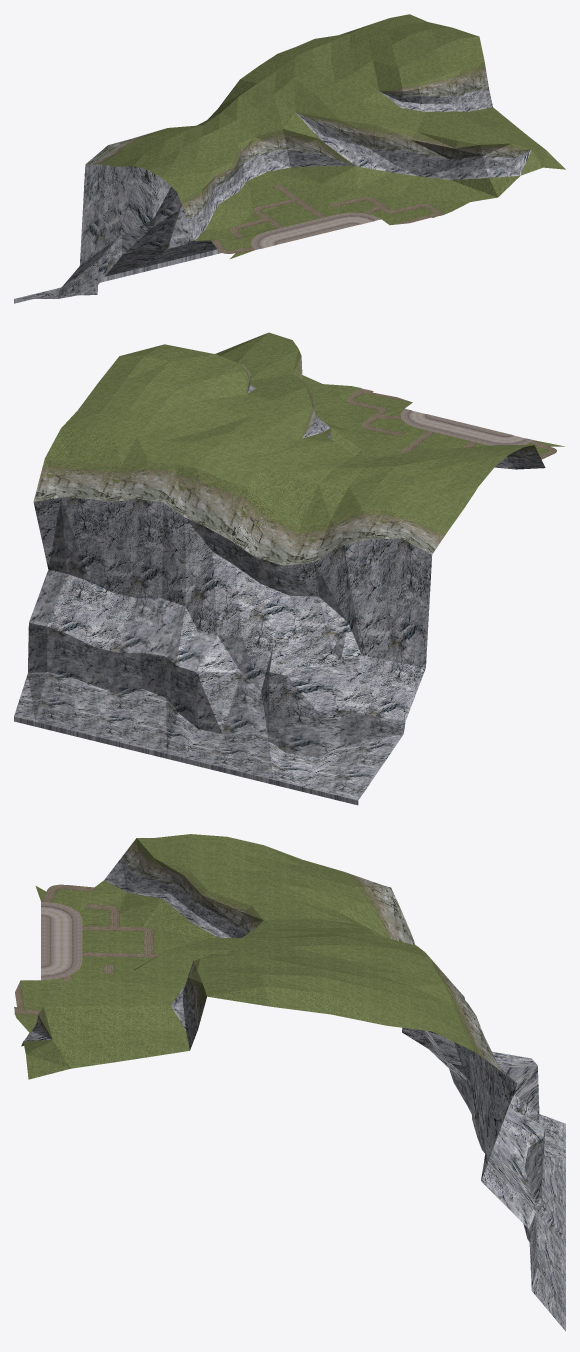
File: n_bit_04.obj
The picture shows the model from 3 angles, top to bottom: view 1: azimuth 30°, elevation 25°; view 2: azimuth 150°, elevation 25°; view 3: azimuth 270°, elevation 25°; orthographic projection. The views are drawn at different scales.
Parts seen in each view (by area): view 1: n_bit_04; view 2: n_bit_04; view 3: n_bit_04.
Part boxes in pixels (x1=…): n_bit_04: x1=14, y1=14, x2=565, y2=303; n_bit_04: x1=14, y1=332, x2=564, y2=805; n_bit_04: x1=14, y1=834, x2=565, y2=1331.
Size of the model in its own units: 250 by 185 by 267.
Materials: 11 (11 with a texture image).
